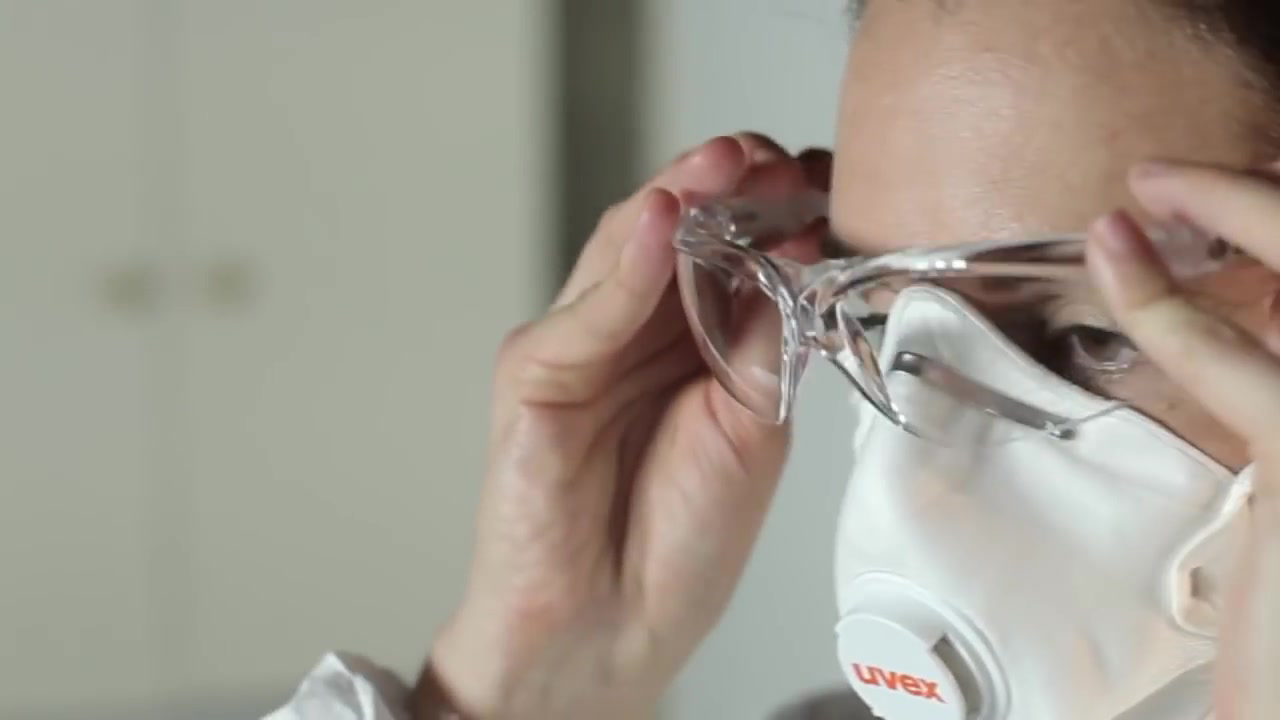Goggles: (626, 192, 1205, 434)
with_mask: (829, 314, 1280, 712)
